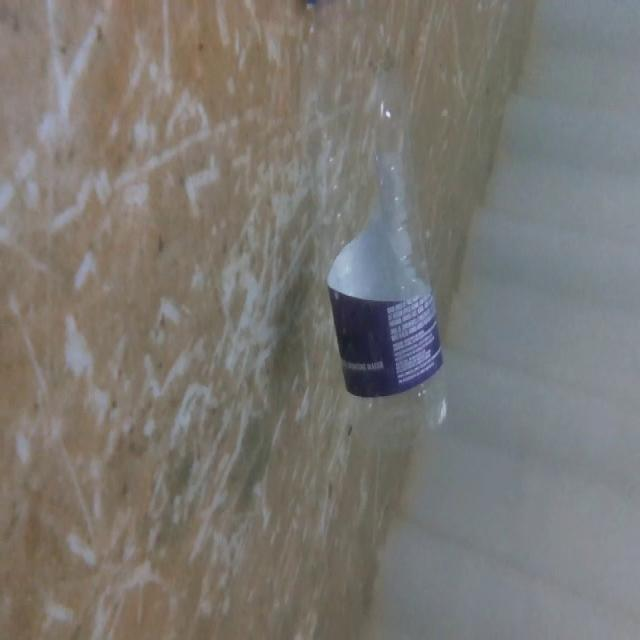plastic bottle: (267, 0, 455, 471)
